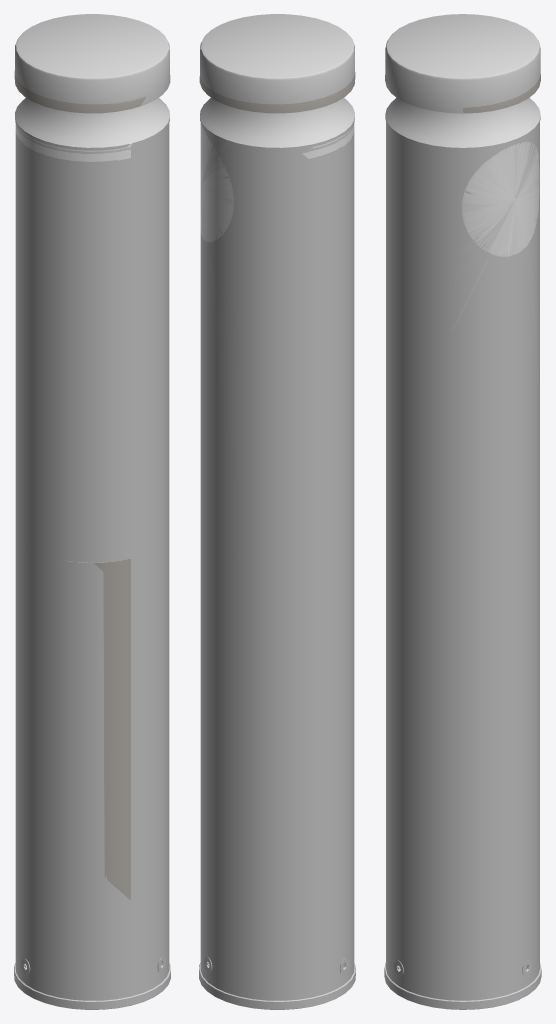
File: Helio_Bollard_SEC_PU40.gltf
3 views of the same model, side by side, from view 1: azimuth 30°, elevation 25°; view 2: azimuth 150°, elevation 25°; view 3: azimuth 270°, elevation 25° (orthographic).
Parts seen in each view (by area): view 1: Helio_Bollard_SEC_PU40; view 2: Helio_Bollard_SEC_PU40; view 3: Helio_Bollard_SEC_PU40.
Boxes of the visible parts, <box> form: Helio_Bollard_SEC_PU40: <box>14,14,170,1009</box>; Helio_Bollard_SEC_PU40: <box>199,14,355,1009</box>; Helio_Bollard_SEC_PU40: <box>384,14,541,1009</box>.
Bounding box in the file's own units: 0.1554 × 1.02 × 0.1554.
Materials: 1 (1 with a texture image).
